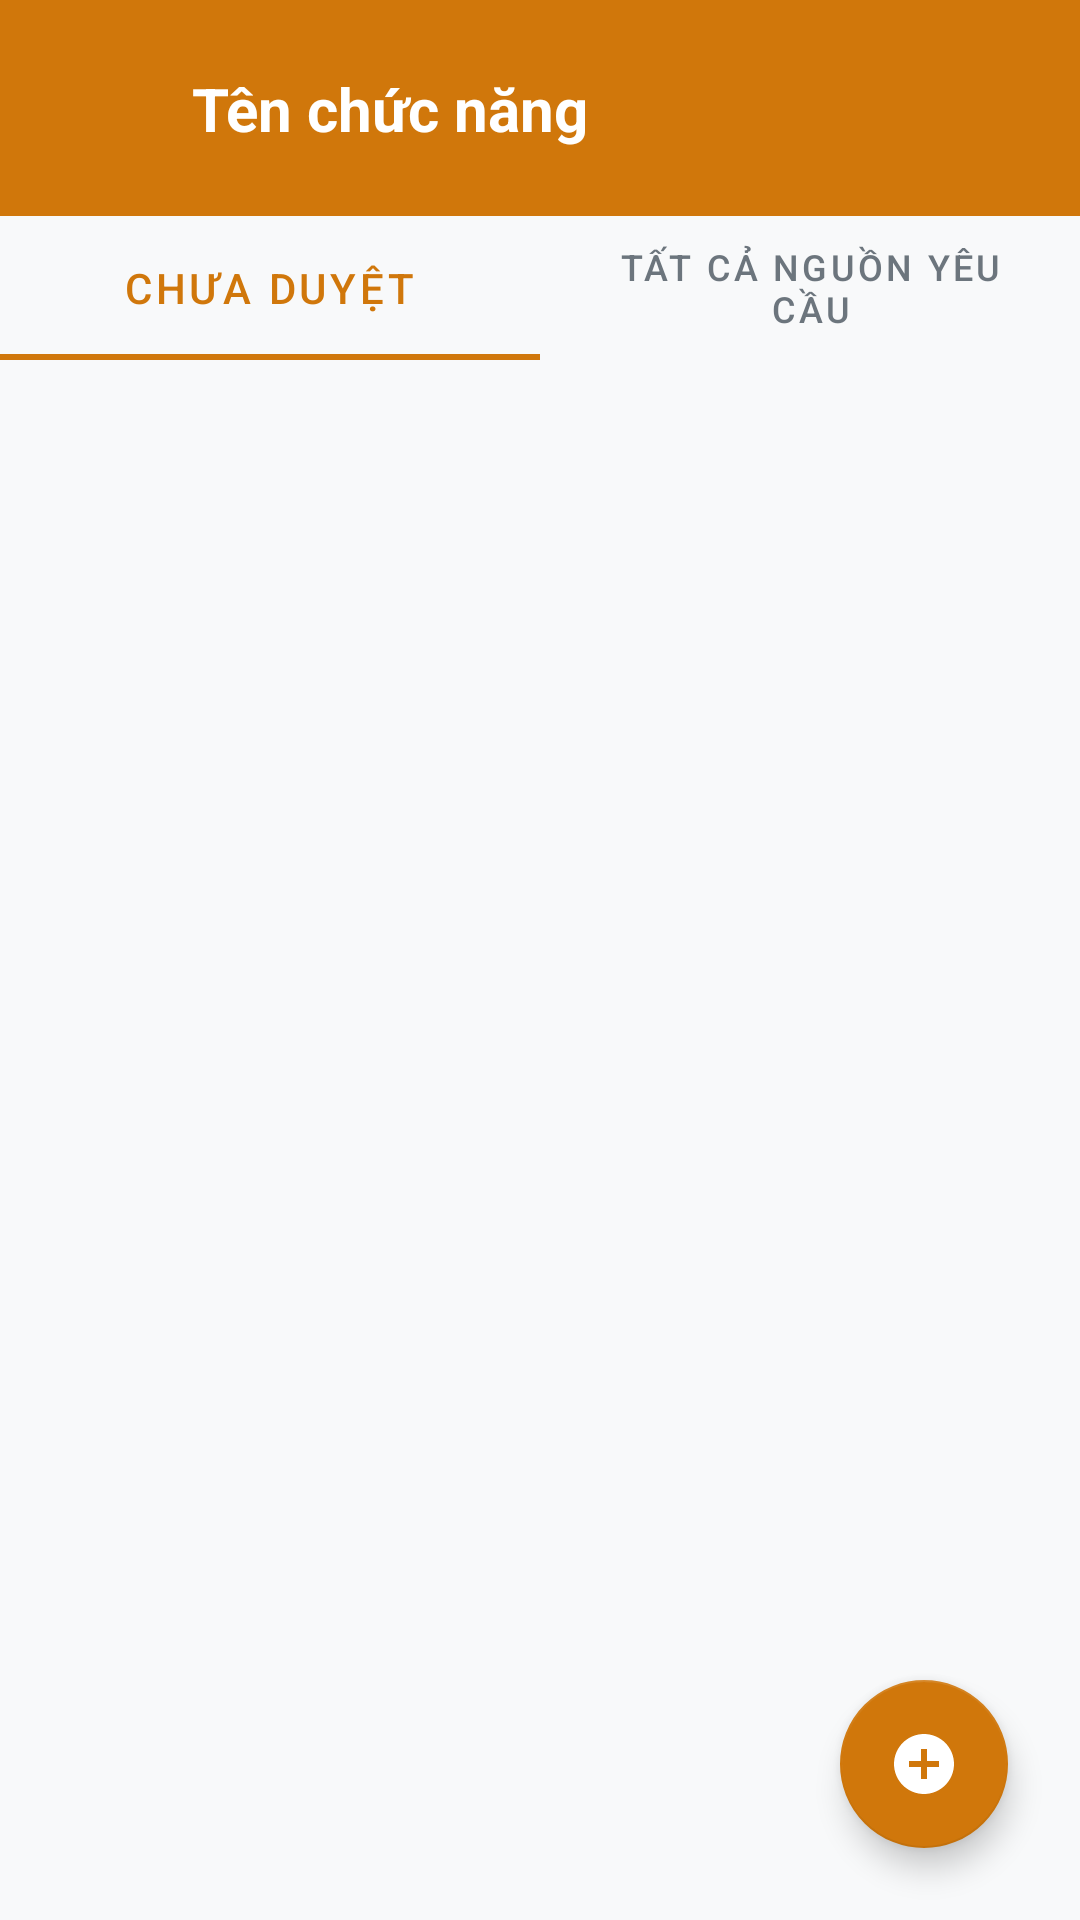

Locate icon controls on the screen. Image size 1080px x 1920px, boxes as rect(x1, y1, x2, y2).
Thêm yêu cầu bổ sung: rect(840, 1680, 1008, 1848)
